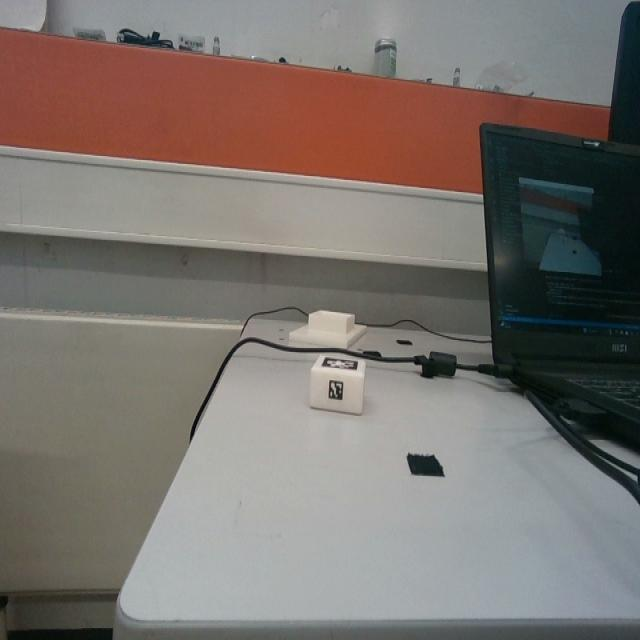Cube: (307, 351, 369, 419)
